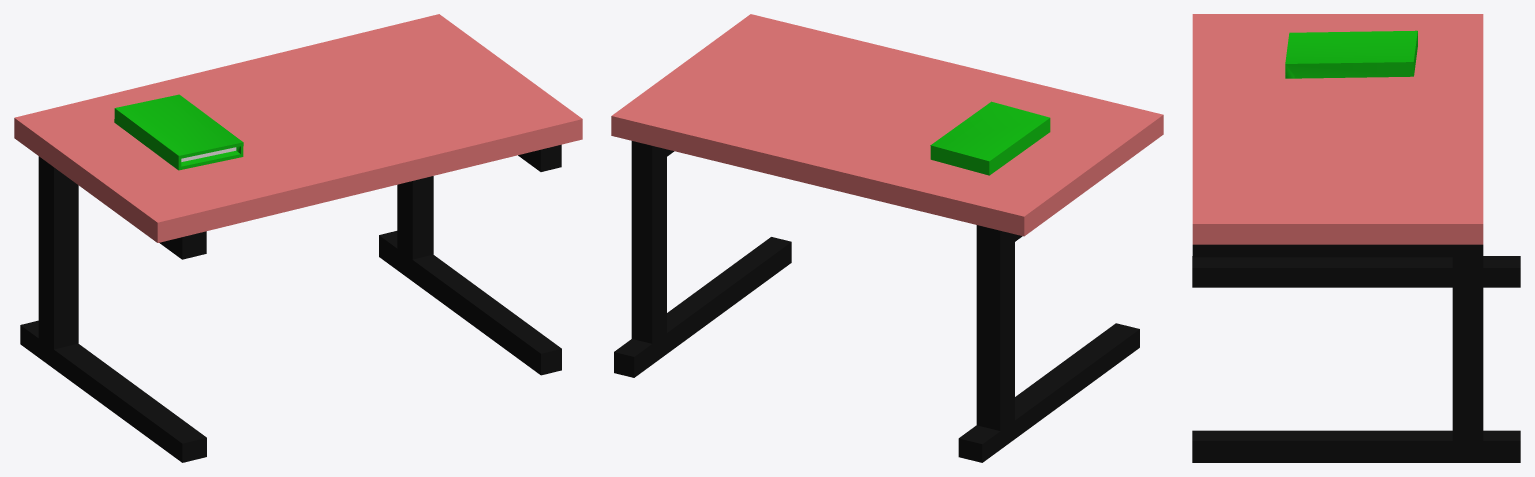
Rendered from Student_Desk.fbx.
3 views of the same model, side by side, from view 1: azimuth 30°, elevation 25°; view 2: azimuth 150°, elevation 25°; view 3: azimuth 270°, elevation 25° (orthographic). The views are drawn at different scales.
Visible parts, largest first — view 1: DESK2.005; view 2: DESK2.005; view 3: DESK2.005.
Boxes of the visible parts, left/top/right/bottom form: DESK2.005: left=14, top=14, right=582, bottom=462; DESK2.005: left=611, top=14, right=1163, bottom=462; DESK2.005: left=1192, top=14, right=1520, bottom=462.
Size of the model in its own units: 7.89 by 4.66 by 5.21.
